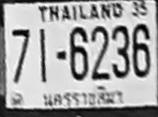1: (40, 29, 48, 81)
2: (90, 25, 110, 80)
3: (111, 24, 129, 78)
6: (69, 26, 87, 80), (132, 23, 150, 76)
7: (11, 28, 30, 82)
NMA: (41, 85, 125, 108)
